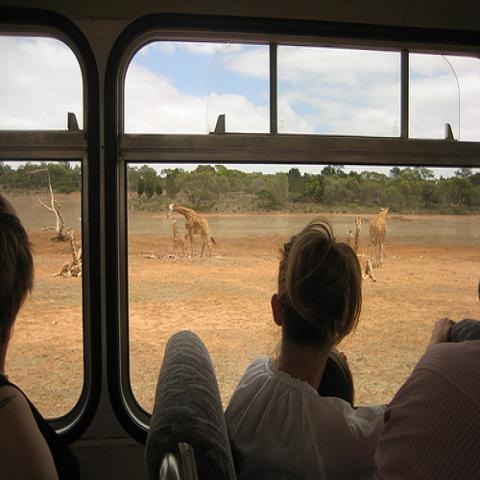bus: (2, 1, 479, 474)
